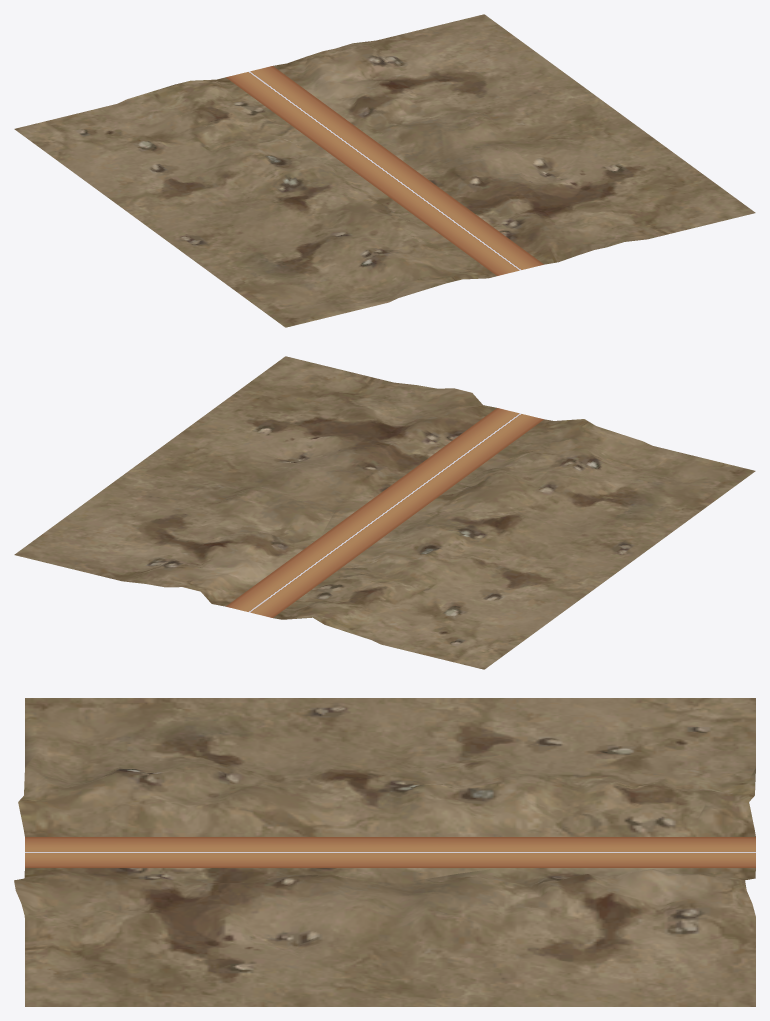
The model's file is M_dibiao02.FBX.
The picture shows the model from 3 angles, top to bottom: view 1: azimuth 30°, elevation 25°; view 2: azimuth 150°, elevation 25°; view 3: azimuth 270°, elevation 25°; orthographic projection. The views are drawn at different scales.
Visible parts, largest first — view 1: M_dibiao02_01, M_dibiao02_02; view 2: M_dibiao02_01, M_dibiao02_02; view 3: M_dibiao02_01, M_dibiao02_02.
Part boxes in pixels (x1=…): M_dibiao02_01: x1=14, y1=14, x2=755, y2=327; M_dibiao02_02: x1=226, y1=66, x2=543, y2=275; M_dibiao02_01: x1=14, y1=356, x2=755, y2=669; M_dibiao02_02: x1=226, y1=408, x2=543, y2=617; M_dibiao02_01: x1=14, y1=698, x2=755, y2=1006; M_dibiao02_02: x1=25, y1=837, x2=755, y2=867.
Bounding box in the file's own units: 100 × 3.31 × 102.
